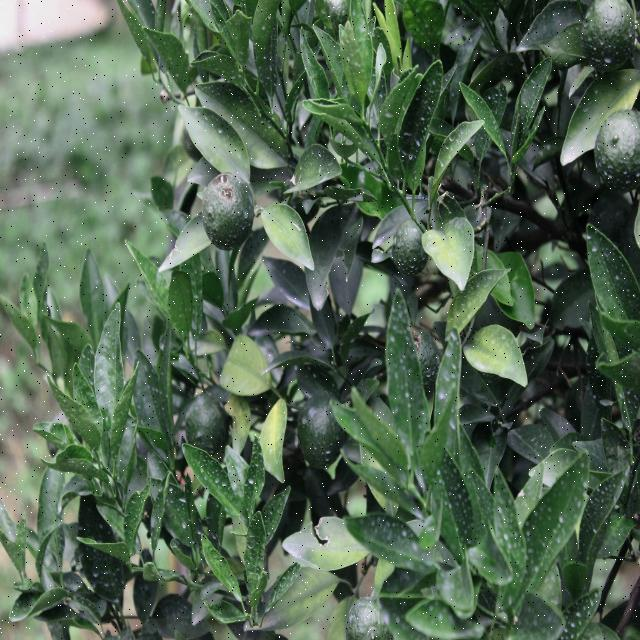greening: (449, 271, 509, 337), (266, 206, 316, 273), (473, 322, 528, 382), (255, 402, 297, 478), (215, 336, 267, 393), (432, 222, 479, 284), (402, 0, 448, 54), (341, 30, 371, 100)
